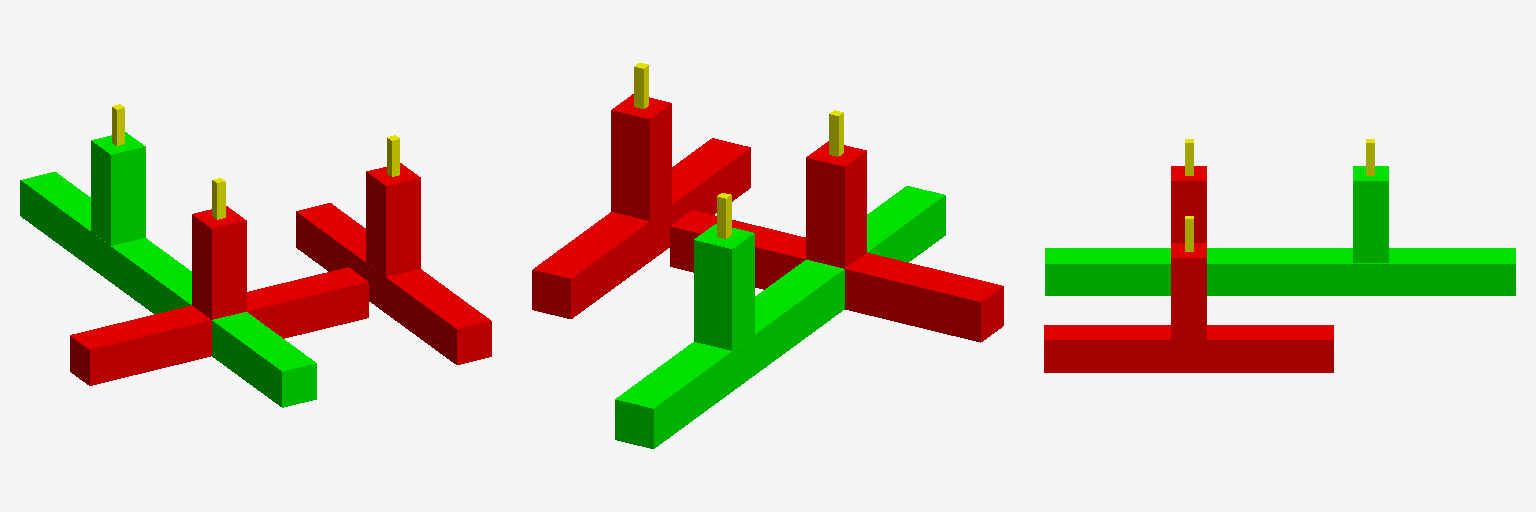
robot.urdf — simple_sliders3:
<?xml version="1.0"?>
<!-- created with Phobos 1.0.1 "Capricious Choutengan" -->
  <robot name="simple_sliders3">

    <link name="base_link">
    </link>

    <link name="goal">
      <visual name="visual_box_0_link_0.001">
        <origin xyz="0 0 0" rpy="0 0 0"/>
        <geometry>
          <box size="1.5974 0.1988 0.1988"/>
        </geometry>
        <material name="green_translucent"/>
      </visual>
    </link>

    <link name="link_0_joint_0">
      <visual name="visual_box_0_link_0">
        <origin xyz="0 0 0" rpy="0 0 0"/>
        <geometry>
          <box size="1.599 0.199 0.199"/>
        </geometry>
        <material name="green"/>
      </visual>
      <collision name="collision_box_0_link_0">
        <origin xyz="0 0 0" rpy="0 0 0"/>
        <geometry>
          <box size="1.599 0.199 0.199"/>
        </geometry>
      </collision>
    </link>

    <link name="link_1_joint_0">
      <visual name="visual_box_3_link_1">
        <origin xyz="0 0 0" rpy="0 0 0"/>
        <geometry>
          <box size="1.599 0.199 0.199"/>
        </geometry>
        <material name="red"/>
      </visual>
      <collision name="collision_box_3_link_1">
        <origin xyz="0 0 0" rpy="0 0 0"/>
        <geometry>
          <box size="1.599 0.199 0.199"/>
        </geometry>
      </collision>
    </link>

    <link name="link_2_joint_0">
      <visual name="visual_box_6_link_2">
        <origin xyz="0 0 0" rpy="0 0 0"/>
        <geometry>
          <box size="1.599 0.199 0.199"/>
        </geometry>
        <material name="red"/>
      </visual>
      <collision name="collision_box_6_link_2">
        <origin xyz="0 0 0" rpy="0 0 0"/>
        <geometry>
          <box size="1.599 0.199 0.199"/>
        </geometry>
      </collision>
    </link>

    <link name="link_fixed_1_handle_shaft">
      <visual name="visual_box_fixed_1_handle_shaft">
        <origin xyz="0 0 0" rpy="0 0 0"/>
        <geometry>
          <box size="0.199 0.199 0.499"/>
        </geometry>
        <material name="green"/>
      </visual>
      <collision name="collision_box_fixed_1_handle_shaft">
        <origin xyz="0 0 0" rpy="0 0 0"/>
        <geometry>
          <box size="0.199 0.199 0.499"/>
        </geometry>
      </collision>
    </link>

    <link name="link_fixed_1_handle_shaft.001">
      <visual name="visual_box_fixed_1_handle_shaft.001">
        <origin xyz="0 0 0" rpy="0 0 0"/>
        <geometry>
          <box size="0.1988 0.1988 0.4985"/>
        </geometry>
        <material name="green_translucent"/>
      </visual>
    </link>

    <link name="link_fixed_2_handle_knob">
      <visual name="visual_box_fixed_2_handle_knob">
        <origin xyz="0 0 0" rpy="0 0 0"/>
        <geometry>
          <box size="0.049 0.049 0.199"/>
        </geometry>
        <material name="yellow"/>
      </visual>
      <collision name="collision_box_fixed_2_handle_knob">
        <origin xyz="0 0 0" rpy="0 0 0"/>
        <geometry>
          <box size="0.049 0.049 0.199"/>
        </geometry>
      </collision>
    </link>

    <link name="link_fixed_2_handle_knob.001">
      <visual name="visual_box_fixed_2_handle_knob.001">
        <origin xyz="0 0 0" rpy="0 0 0"/>
        <geometry>
          <box size="0.04895 0.04895 0.1988"/>
        </geometry>
        <material name="green_translucent"/>
      </visual>
    </link>

    <link name="link_fixed_4_handle_shaft">
      <visual name="visual_box_fixed_4_handle_shaft">
        <origin xyz="0 0 0" rpy="0 0 0"/>
        <geometry>
          <box size="0.199 0.199 0.499"/>
        </geometry>
        <material name="red"/>
      </visual>
      <collision name="collision_box_fixed_4_handle_shaft">
        <origin xyz="0 0 0" rpy="0 0 0"/>
        <geometry>
          <box size="0.199 0.199 0.499"/>
        </geometry>
      </collision>
    </link>

    <link name="link_fixed_5_handle_knob">
      <visual name="visual_box_fixed_5_handle_knob">
        <origin xyz="0 0 0" rpy="0 0 0"/>
        <geometry>
          <box size="0.049 0.049 0.199"/>
        </geometry>
        <material name="yellow"/>
      </visual>
      <collision name="collision_box_fixed_5_handle_knob">
        <origin xyz="0 0 0" rpy="0 0 0"/>
        <geometry>
          <box size="0.049 0.049 0.199"/>
        </geometry>
      </collision>
    </link>

    <link name="link_fixed_7_handle_shaft">
      <visual name="visual_box_fixed_7_handle_shaft">
        <origin xyz="0 0 0" rpy="0 0 0"/>
        <geometry>
          <box size="0.199 0.199 0.499"/>
        </geometry>
        <material name="red"/>
      </visual>
      <collision name="collision_box_fixed_7_handle_shaft">
        <origin xyz="0 0 0" rpy="0 0 0"/>
        <geometry>
          <box size="0.199 0.199 0.499"/>
        </geometry>
      </collision>
    </link>

    <link name="link_fixed_8_handle_knob">
      <visual name="visual_box_fixed_8_handle_knob">
        <origin xyz="0 0 0" rpy="0 0 0"/>
        <geometry>
          <box size="0.049 0.049 0.199"/>
        </geometry>
        <material name="yellow"/>
      </visual>
      <collision name="collision_box_fixed_8_handle_knob">
        <origin xyz="0 0 0" rpy="0 0 0"/>
        <geometry>
          <box size="0.049 0.049 0.199"/>
        </geometry>
      </collision>
    </link>

    <joint name="goal" type="fixed">
      <origin xyz="0 -1.0 0.1" rpy="0 0 -1.5708"/>
      <parent link="base_link"/>
      <child link="goal"/>
      <limit effort="0" velocity="0"/>
    </joint>

    <joint name="link_0_joint_0" type="prismatic">
      <origin xyz="0 0 0.1" rpy="0 0 -1.5708"/>
      <parent link="base_link"/>
      <child link="link_0_joint_0"/>
      <axis xyz="1.0 0 0"/>
      <limit lower="0" upper="1.0" effort="0" velocity="0"/>
    </joint>

    <joint name="link_1_joint_0" type="prismatic">
      <origin xyz="0 -1.0 0.1" rpy="0 0 0"/>
      <parent link="base_link"/>
      <child link="link_1_joint_0"/>
      <axis xyz="1.0 0 0"/>
      <limit lower="0" upper="1.0" effort="0" velocity="0"/>
    </joint>

    <joint name="link_2_joint_0" type="prismatic">
      <origin xyz="1.0 -1.0 0.1" rpy="0 0 -1.5708"/>
      <parent link="base_link"/>
      <child link="link_2_joint_0"/>
      <axis xyz="1.0 0 0"/>
      <limit lower="0" upper="1.0" effort="0" velocity="0"/>
    </joint>

    <joint name="link_fixed_1_handle_shaft" type="fixed">
      <origin xyz="0 0 0.35" rpy="0 0 0"/>
      <parent link="link_0_joint_0"/>
      <child link="link_fixed_1_handle_shaft"/>
    </joint>

    <joint name="link_fixed_1_handle_shaft.001" type="fixed">
      <origin xyz="0 0 0.34965" rpy="0 0 0"/>
      <parent link="goal"/>
      <child link="link_fixed_1_handle_shaft.001"/>
    </joint>

    <joint name="link_fixed_2_handle_knob" type="fixed">
      <origin xyz="0 0 0.35" rpy="0 0 0"/>
      <parent link="link_fixed_1_handle_shaft"/>
      <child link="link_fixed_2_handle_knob"/>
    </joint>

    <joint name="link_fixed_2_handle_knob.001" type="fixed">
      <origin xyz="0 0 0.34965" rpy="0 0 0"/>
      <parent link="link_fixed_1_handle_shaft.001"/>
      <child link="link_fixed_2_handle_knob.001"/>
    </joint>

    <joint name="link_fixed_4_handle_shaft" type="fixed">
      <origin xyz="0 0 0.35" rpy="0 0 0"/>
      <parent link="link_1_joint_0"/>
      <child link="link_fixed_4_handle_shaft"/>
    </joint>

    <joint name="link_fixed_5_handle_knob" type="fixed">
      <origin xyz="0 0 0.35" rpy="0 0 0"/>
      <parent link="link_fixed_4_handle_shaft"/>
      <child link="link_fixed_5_handle_knob"/>
    </joint>

    <joint name="link_fixed_7_handle_shaft" type="fixed">
      <origin xyz="0 0 0.35" rpy="0 0 0"/>
      <parent link="link_2_joint_0"/>
      <child link="link_fixed_7_handle_shaft"/>
    </joint>

    <joint name="link_fixed_8_handle_knob" type="fixed">
      <origin xyz="0 0 0.35" rpy="0 0 0"/>
      <parent link="link_fixed_7_handle_shaft"/>
      <child link="link_fixed_8_handle_knob"/>
    </joint>

    <material name="green">
      <color rgba="0 1.0 0 1.0"/>
    </material>

    <material name="green_translucent">
      <color rgba="0 1.0 0 0.25"/>
    </material>

    <material name="red">
      <color rgba="1.0 0 0 1.0"/>
    </material>

    <material name="yellow">
      <color rgba="1.0 1.0 0 1.0"/>
    </material>

  </robot>

--- Facts derived from the render (not from the file) ---
3 views of the same robot in one strip: view 1: azimuth 30°, elevation 25°; view 2: azimuth 150°, elevation 25°; view 3: azimuth 270°, elevation 25° (orthographic).
Model simple_sliders3 with 13 links and 12 joints (3 prismatic, 9 fixed), rooted at base_link, posed all joints at 0.
Visible links, largest first — view 1: link_1_joint_0, link_2_joint_0, link_0_joint_0, goal, link_fixed_7_handle_shaft, link_fixed_1_handle_shaft, link_fixed_4_handle_shaft, link_fixed_5_handle_knob; view 2: link_0_joint_0, link_1_joint_0, link_2_joint_0, link_fixed_1_handle_shaft, link_fixed_4_handle_shaft, link_fixed_7_handle_shaft, goal, link_fixed_5_handle_knob, link_fixed_8_handle_knob, link_fixed_2_handle_knob; view 3: link_0_joint_0, link_2_joint_0, goal, link_fixed_7_handle_shaft, link_fixed_1_handle_shaft, link_fixed_4_handle_shaft.
Boxes of the visible links, x1,y1,x2,y2 form: link_1_joint_0: [70, 267, 368, 385]; link_2_joint_0: [296, 203, 491, 364]; link_0_joint_0: [20, 172, 191, 313]; goal: [182, 296, 316, 407]; link_fixed_7_handle_shaft: [366, 163, 420, 276]; link_fixed_1_handle_shaft: [91, 132, 145, 245]; link_fixed_4_handle_shaft: [192, 206, 246, 319]; link_fixed_5_handle_knob: [212, 178, 225, 219]; link_0_joint_0: [615, 268, 832, 448]; link_1_joint_0: [670, 210, 1003, 342]; link_2_joint_0: [532, 138, 750, 318]; link_fixed_1_handle_shaft: [694, 224, 754, 350]; link_fixed_4_handle_shaft: [806, 141, 866, 268]; link_fixed_7_handle_shaft: [611, 94, 671, 220]; goal: [795, 186, 945, 317]; link_fixed_5_handle_knob: [829, 110, 843, 156]; link_fixed_8_handle_knob: [634, 63, 648, 108]; link_fixed_2_handle_knob: [717, 193, 731, 238]; link_0_joint_0: [1226, 248, 1515, 295]; link_2_joint_0: [1044, 325, 1333, 372]; goal: [1045, 248, 1225, 295]; link_fixed_7_handle_shaft: [1171, 243, 1206, 339]; link_fixed_1_handle_shaft: [1353, 166, 1388, 262]; link_fixed_4_handle_shaft: [1171, 166, 1206, 242].
Size in the robot's own frame: 1.9 by 2.6 by 0.899 metres.
Geometry: primitives only (box / cylinder / sphere), no mesh files.